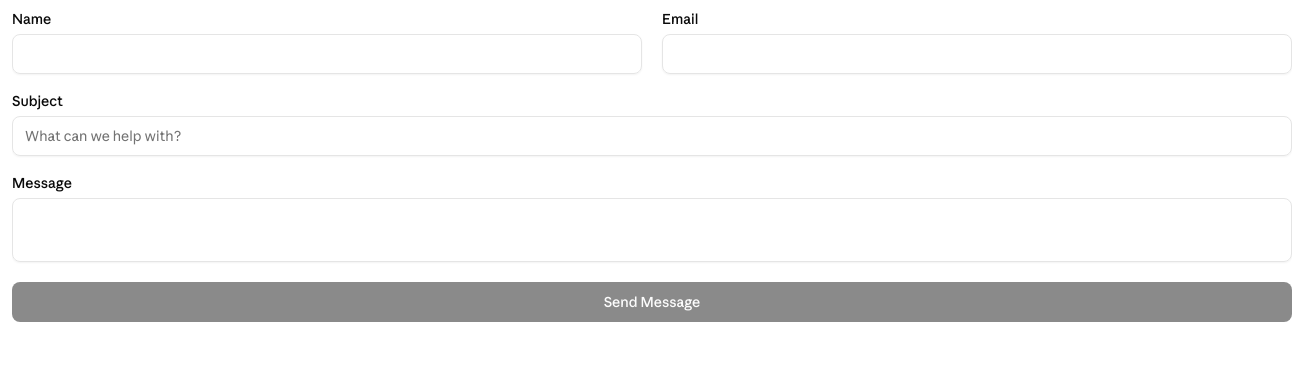
Test: ContactForm › surfaces a server `error` message verbatim
The width and height of the screenshot is (1304, 379).
In the field labelled "Name": {"x": 327, "y": 54} [12,34,642,74], type "Ada"
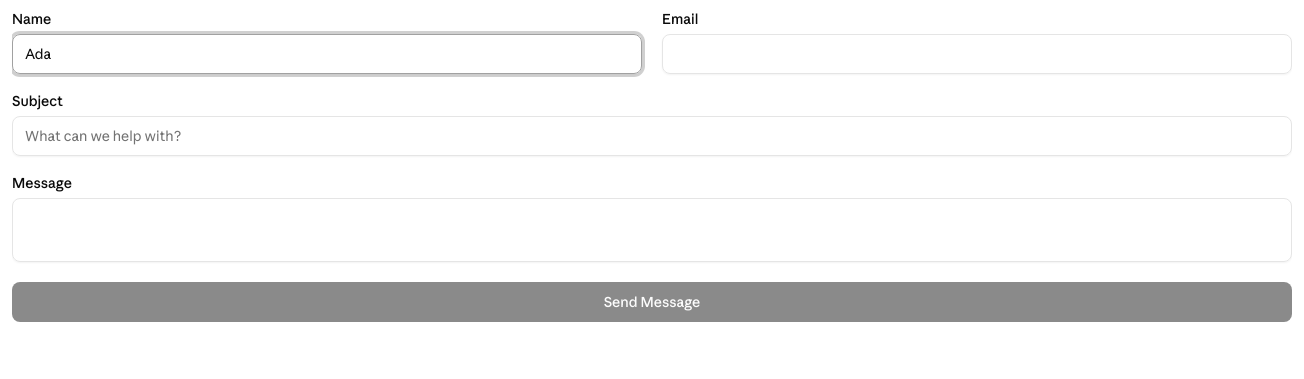
In the field labelled "Email": {"x": 977, "y": 54} [662,34,1292,74], type "ada@example.com"
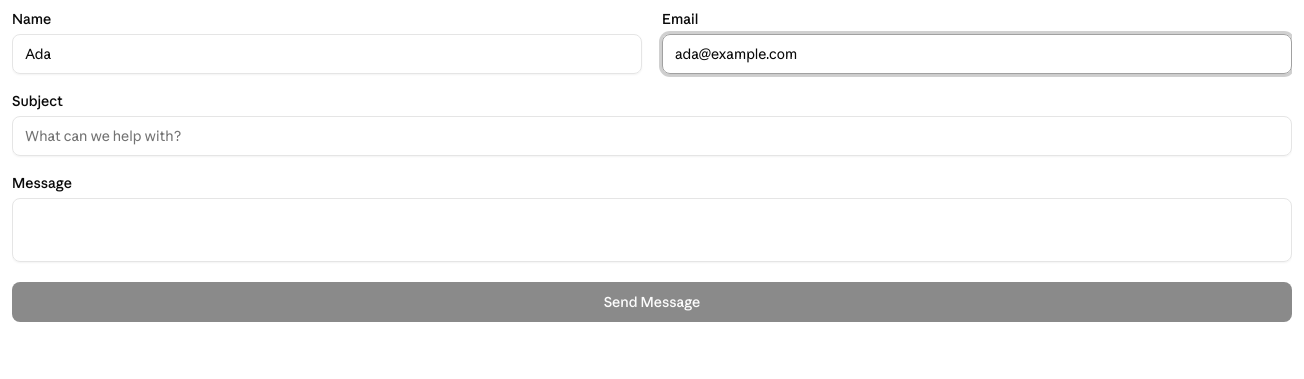
In the field labelled "Subject": {"x": 652, "y": 136} [12,116,1292,156], type "Tech"
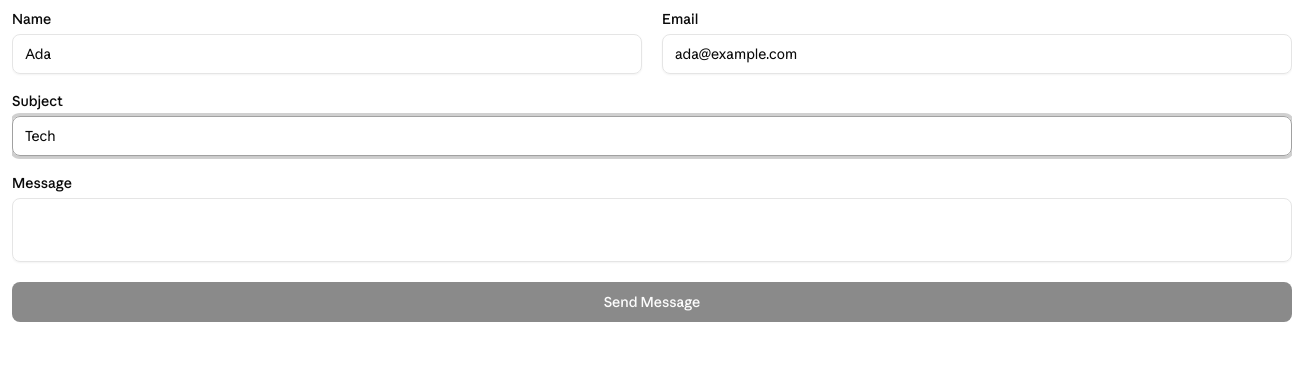
In the text box labelled "Message": {"x": 652, "y": 230} [12,198,1292,262], type "Help"
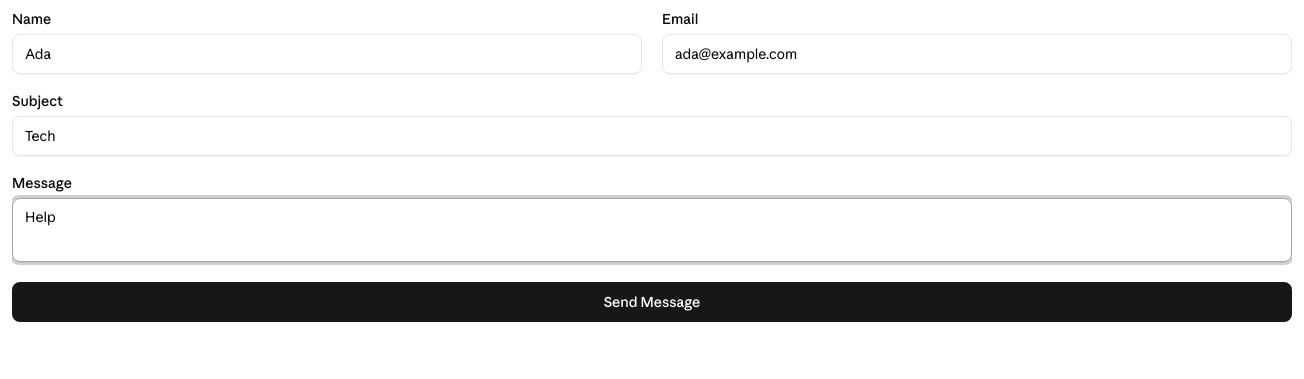
Click the button "Send Message": {"x": 652, "y": 302} [12,282,1292,322]
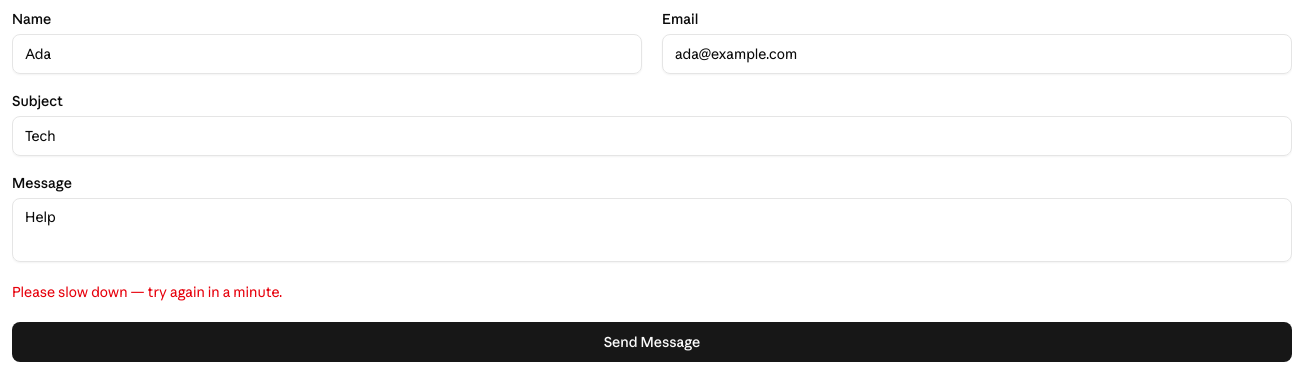
Expected: the text "Please slow down — try again in a minute." is shown, [12,283,282,301]
